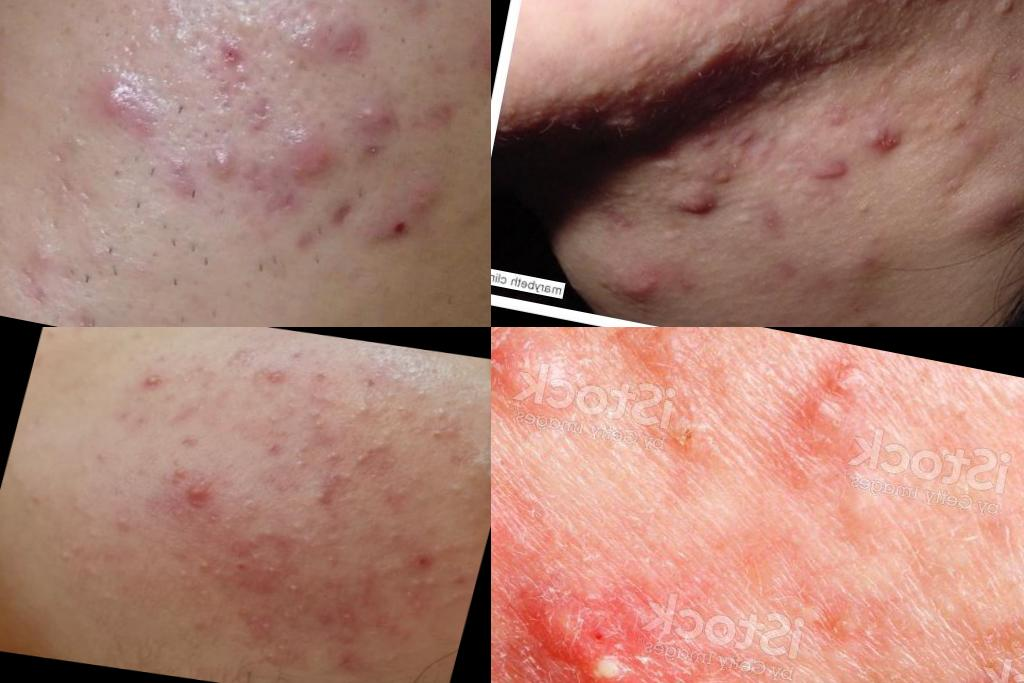blackhead: (981, 1, 1019, 28), (929, 1, 955, 12)
cystic: (763, 338, 886, 471), (492, 328, 607, 465), (81, 63, 172, 141), (663, 171, 731, 233), (974, 179, 1024, 254), (597, 262, 667, 314), (813, 661, 905, 683)
papular: (302, 1, 387, 76), (167, 476, 231, 516), (404, 175, 447, 218), (289, 484, 344, 512)
purulent: (127, 369, 170, 404)
sebo-crystan-conglo: (497, 573, 679, 683), (270, 129, 346, 200), (846, 112, 916, 165), (353, 98, 404, 147), (197, 144, 243, 193)
whitehead: (396, 388, 475, 447), (222, 5, 275, 47), (244, 637, 293, 677), (337, 394, 383, 430), (164, 25, 201, 62), (46, 541, 90, 570), (408, 572, 441, 609), (22, 237, 58, 270), (347, 445, 384, 474), (257, 363, 296, 389), (285, 444, 315, 475), (226, 343, 258, 370), (406, 377, 438, 403), (279, 577, 314, 600), (279, 530, 323, 548), (376, 530, 408, 554), (269, 604, 302, 627), (291, 593, 317, 621), (307, 409, 334, 433), (113, 512, 140, 536), (445, 482, 473, 505), (250, 525, 283, 544), (234, 60, 254, 87), (321, 448, 346, 469), (336, 610, 362, 629), (318, 551, 344, 570), (191, 584, 220, 600), (263, 410, 284, 429), (247, 547, 269, 563), (176, 566, 194, 585), (411, 492, 426, 512), (195, 559, 213, 574)
